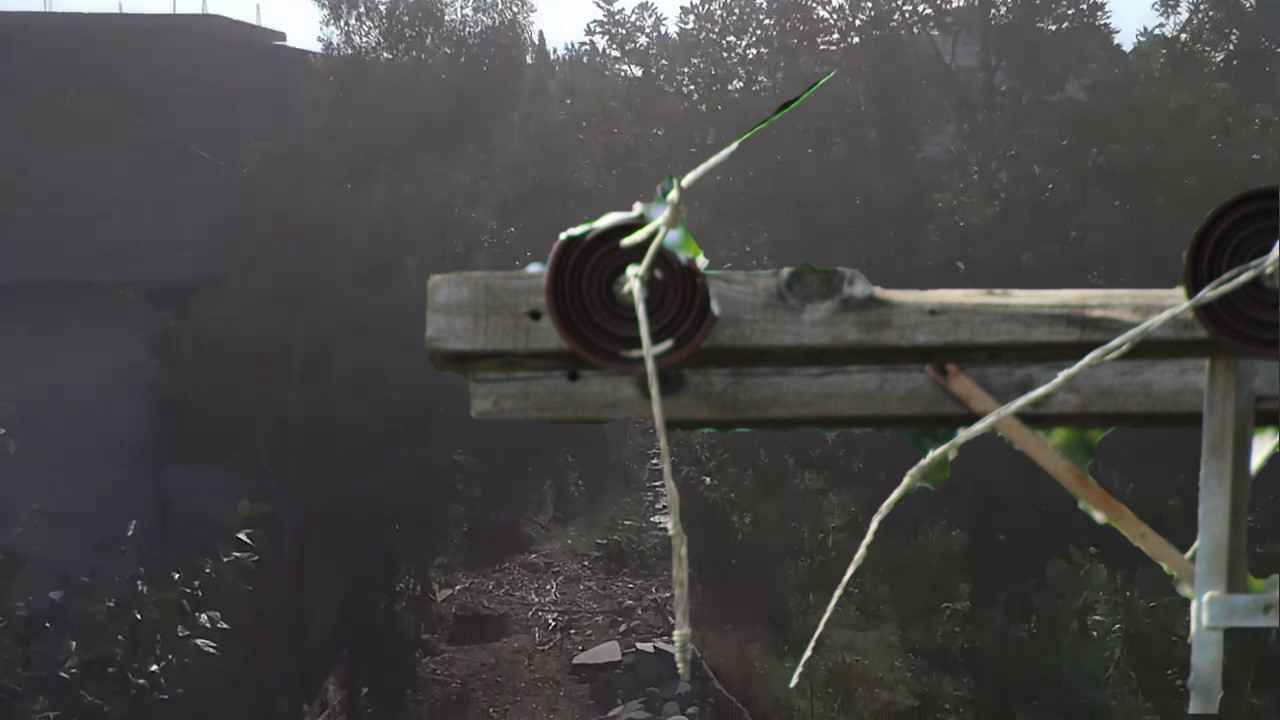defect_disc: (540, 202, 732, 378)
